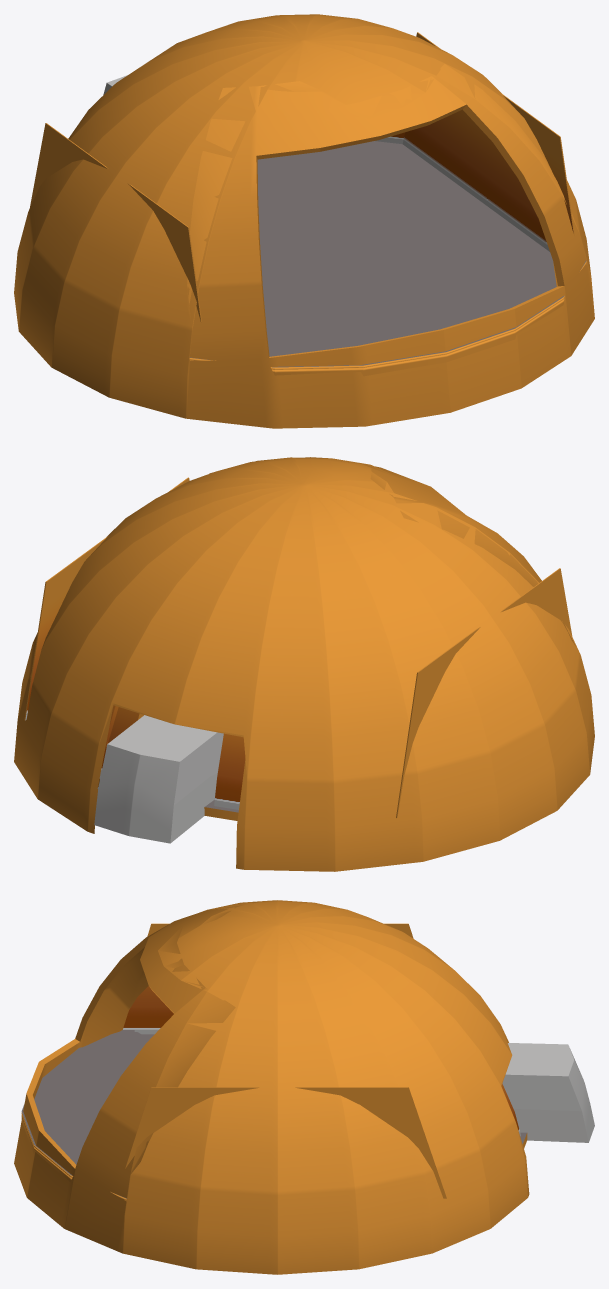
File: Sphere_Top.fbx
3 views of the same model, one above another, from view 1: azimuth 30°, elevation 25°; view 2: azimuth 150°, elevation 25°; view 3: azimuth 270°, elevation 25° (orthographic). The views are drawn at different scales.
Visible parts, largest first — view 1: polySurface41; view 2: polySurface41; view 3: polySurface41.
Part boxes in pixels (x1,y1,x2,y2): polySurface41: (14,14,594,428); polySurface41: (14,457,594,871); polySurface41: (14,900,594,1274).
Size of the model in its own units: 1871 by 935 by 2063.
1 material, 1 textured.
